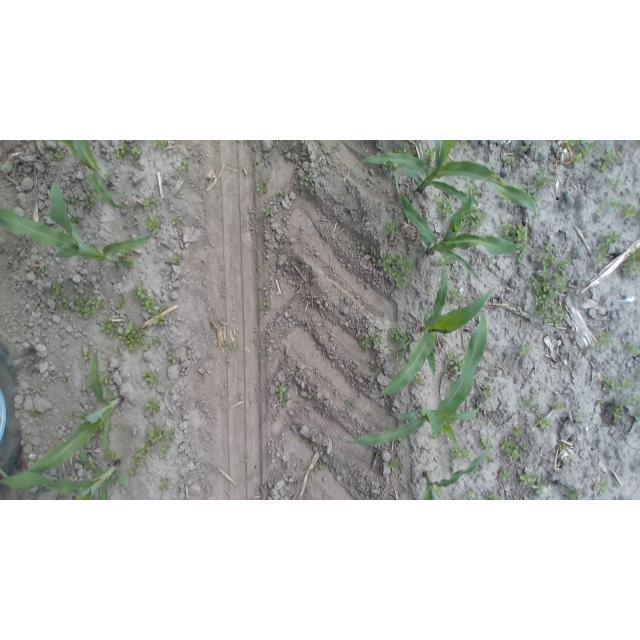Maize: (343, 308, 490, 448), (6, 349, 127, 484), (381, 262, 494, 402), (394, 168, 526, 281), (351, 140, 542, 218), (1, 175, 158, 265), (1, 450, 132, 499), (57, 140, 139, 210), (422, 434, 493, 498)
Weeds: (131, 424, 177, 465), (529, 270, 556, 320), (380, 252, 414, 291), (120, 322, 149, 354), (554, 251, 576, 293), (595, 230, 620, 266), (388, 327, 412, 361), (563, 141, 593, 166), (133, 285, 159, 313), (73, 297, 105, 319), (520, 470, 549, 494), (461, 207, 486, 229), (501, 223, 529, 242), (531, 168, 553, 192), (52, 285, 72, 311), (622, 249, 639, 279), (434, 195, 455, 219), (445, 351, 463, 378), (502, 437, 521, 461), (101, 320, 120, 339), (276, 384, 291, 408), (549, 305, 566, 326), (451, 445, 472, 461), (298, 434, 317, 450), (536, 414, 553, 431), (143, 371, 160, 388), (604, 378, 621, 395), (143, 215, 159, 232), (115, 141, 130, 159), (598, 331, 613, 349), (597, 154, 612, 172), (483, 488, 503, 501), (145, 398, 161, 414), (448, 286, 464, 302), (387, 455, 403, 471), (620, 376, 636, 392), (606, 149, 621, 166), (621, 205, 638, 220), (520, 396, 538, 410), (393, 144, 418, 154), (538, 254, 557, 267), (145, 335, 160, 351), (385, 220, 400, 236), (614, 402, 625, 423), (143, 195, 158, 210), (81, 194, 96, 209), (459, 489, 479, 500), (519, 343, 534, 357), (115, 419, 129, 434), (517, 245, 528, 264), (606, 177, 625, 188), (625, 340, 638, 356), (312, 460, 325, 476), (120, 251, 134, 265), (364, 361, 378, 375), (299, 175, 312, 190), (256, 180, 268, 196), (160, 443, 171, 460), (362, 335, 374, 350), (116, 292, 125, 311), (439, 256, 452, 269), (158, 479, 171, 492), (500, 467, 512, 481), (596, 481, 608, 495), (609, 197, 620, 212), (425, 147, 435, 163), (373, 332, 383, 348), (152, 313, 164, 326), (480, 386, 493, 398), (254, 154, 267, 166), (344, 398, 357, 410), (101, 372, 113, 384), (53, 148, 64, 161), (554, 401, 567, 412), (363, 245, 374, 258), (261, 300, 270, 315), (153, 140, 168, 149), (471, 184, 482, 196), (106, 449, 117, 461), (414, 374, 425, 386), (627, 394, 638, 406), (500, 402, 512, 413), (530, 191, 541, 203), (568, 489, 581, 499), (225, 352, 235, 365), (65, 192, 75, 205), (574, 409, 583, 423), (132, 147, 143, 158), (385, 162, 396, 173), (507, 155, 518, 166), (396, 439, 408, 449), (490, 315, 502, 325), (479, 433, 486, 450), (293, 366, 302, 379), (169, 354, 180, 364), (544, 241, 555, 251), (513, 427, 524, 437), (113, 346, 123, 357), (304, 389, 315, 399), (182, 158, 191, 170), (156, 304, 169, 312), (373, 450, 381, 463), (262, 205, 272, 215), (458, 140, 468, 150), (39, 265, 49, 275), (492, 342, 502, 352), (30, 410, 41, 419), (60, 373, 71, 382), (71, 216, 82, 225), (424, 285, 432, 297), (632, 409, 640, 421), (559, 442, 568, 452), (129, 469, 139, 478), (173, 254, 182, 264), (83, 350, 92, 360), (522, 144, 531, 154), (230, 341, 238, 352), (595, 206, 603, 217), (257, 284, 268, 292), (258, 348, 266, 359), (535, 142, 543, 153), (172, 218, 181, 227), (333, 143, 342, 152), (484, 454, 494, 462), (318, 166, 326, 176), (476, 470, 485, 478), (255, 262, 263, 271), (596, 398, 605, 406), (636, 364, 640, 382), (588, 344, 597, 352), (519, 184, 528, 192), (278, 189, 286, 197), (482, 418, 491, 425), (438, 488, 445, 497), (521, 444, 528, 453), (407, 290, 415, 297), (243, 454, 249, 463), (301, 263, 308, 270), (307, 150, 313, 157), (252, 472, 259, 478), (544, 318, 549, 326), (66, 279, 71, 285)
